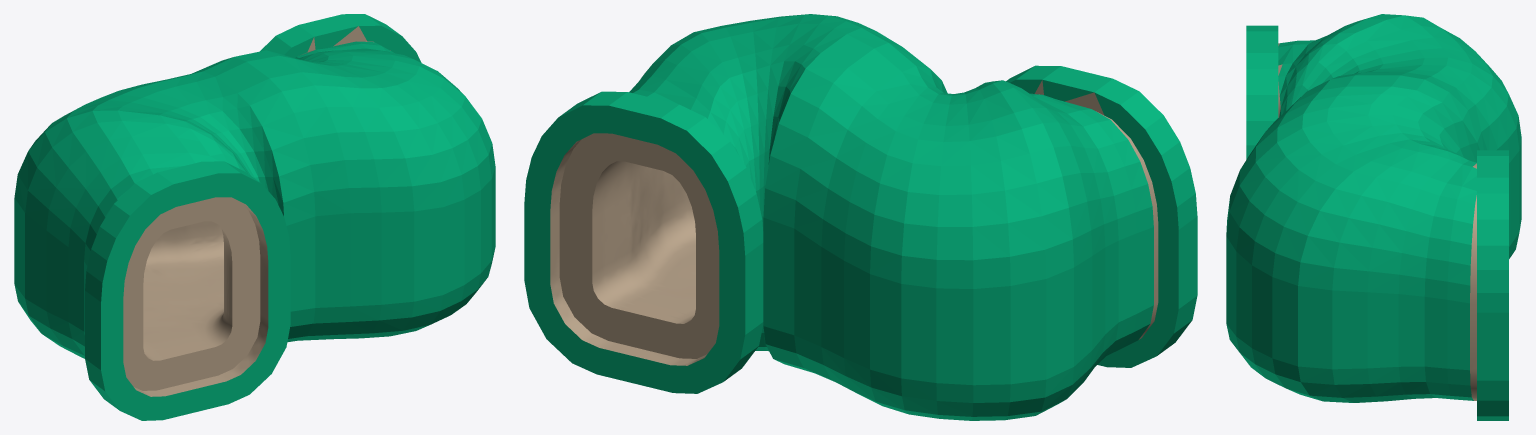
The model's file is TT_Dogleg_R_C.fbx.
3 renders of one model, left to right at view 1: azimuth 30°, elevation 25°; view 2: azimuth 150°, elevation 25°; view 3: azimuth 270°, elevation 25°, orthographic. The views are drawn at different scales.
Parts seen in each view (by area): view 1: TT_Dogleg_R_C_LOD0; view 2: TT_Dogleg_R_C_LOD0; view 3: TT_Dogleg_R_C_LOD0.
Boxes of the visible parts, left/top/right/bottom form: TT_Dogleg_R_C_LOD0: left=14, top=14, right=495, bottom=420; TT_Dogleg_R_C_LOD0: left=524, top=14, right=1197, bottom=420; TT_Dogleg_R_C_LOD0: left=1226, top=14, right=1521, bottom=420.
Size of the model in its own units: 800 by 454 by 461.
